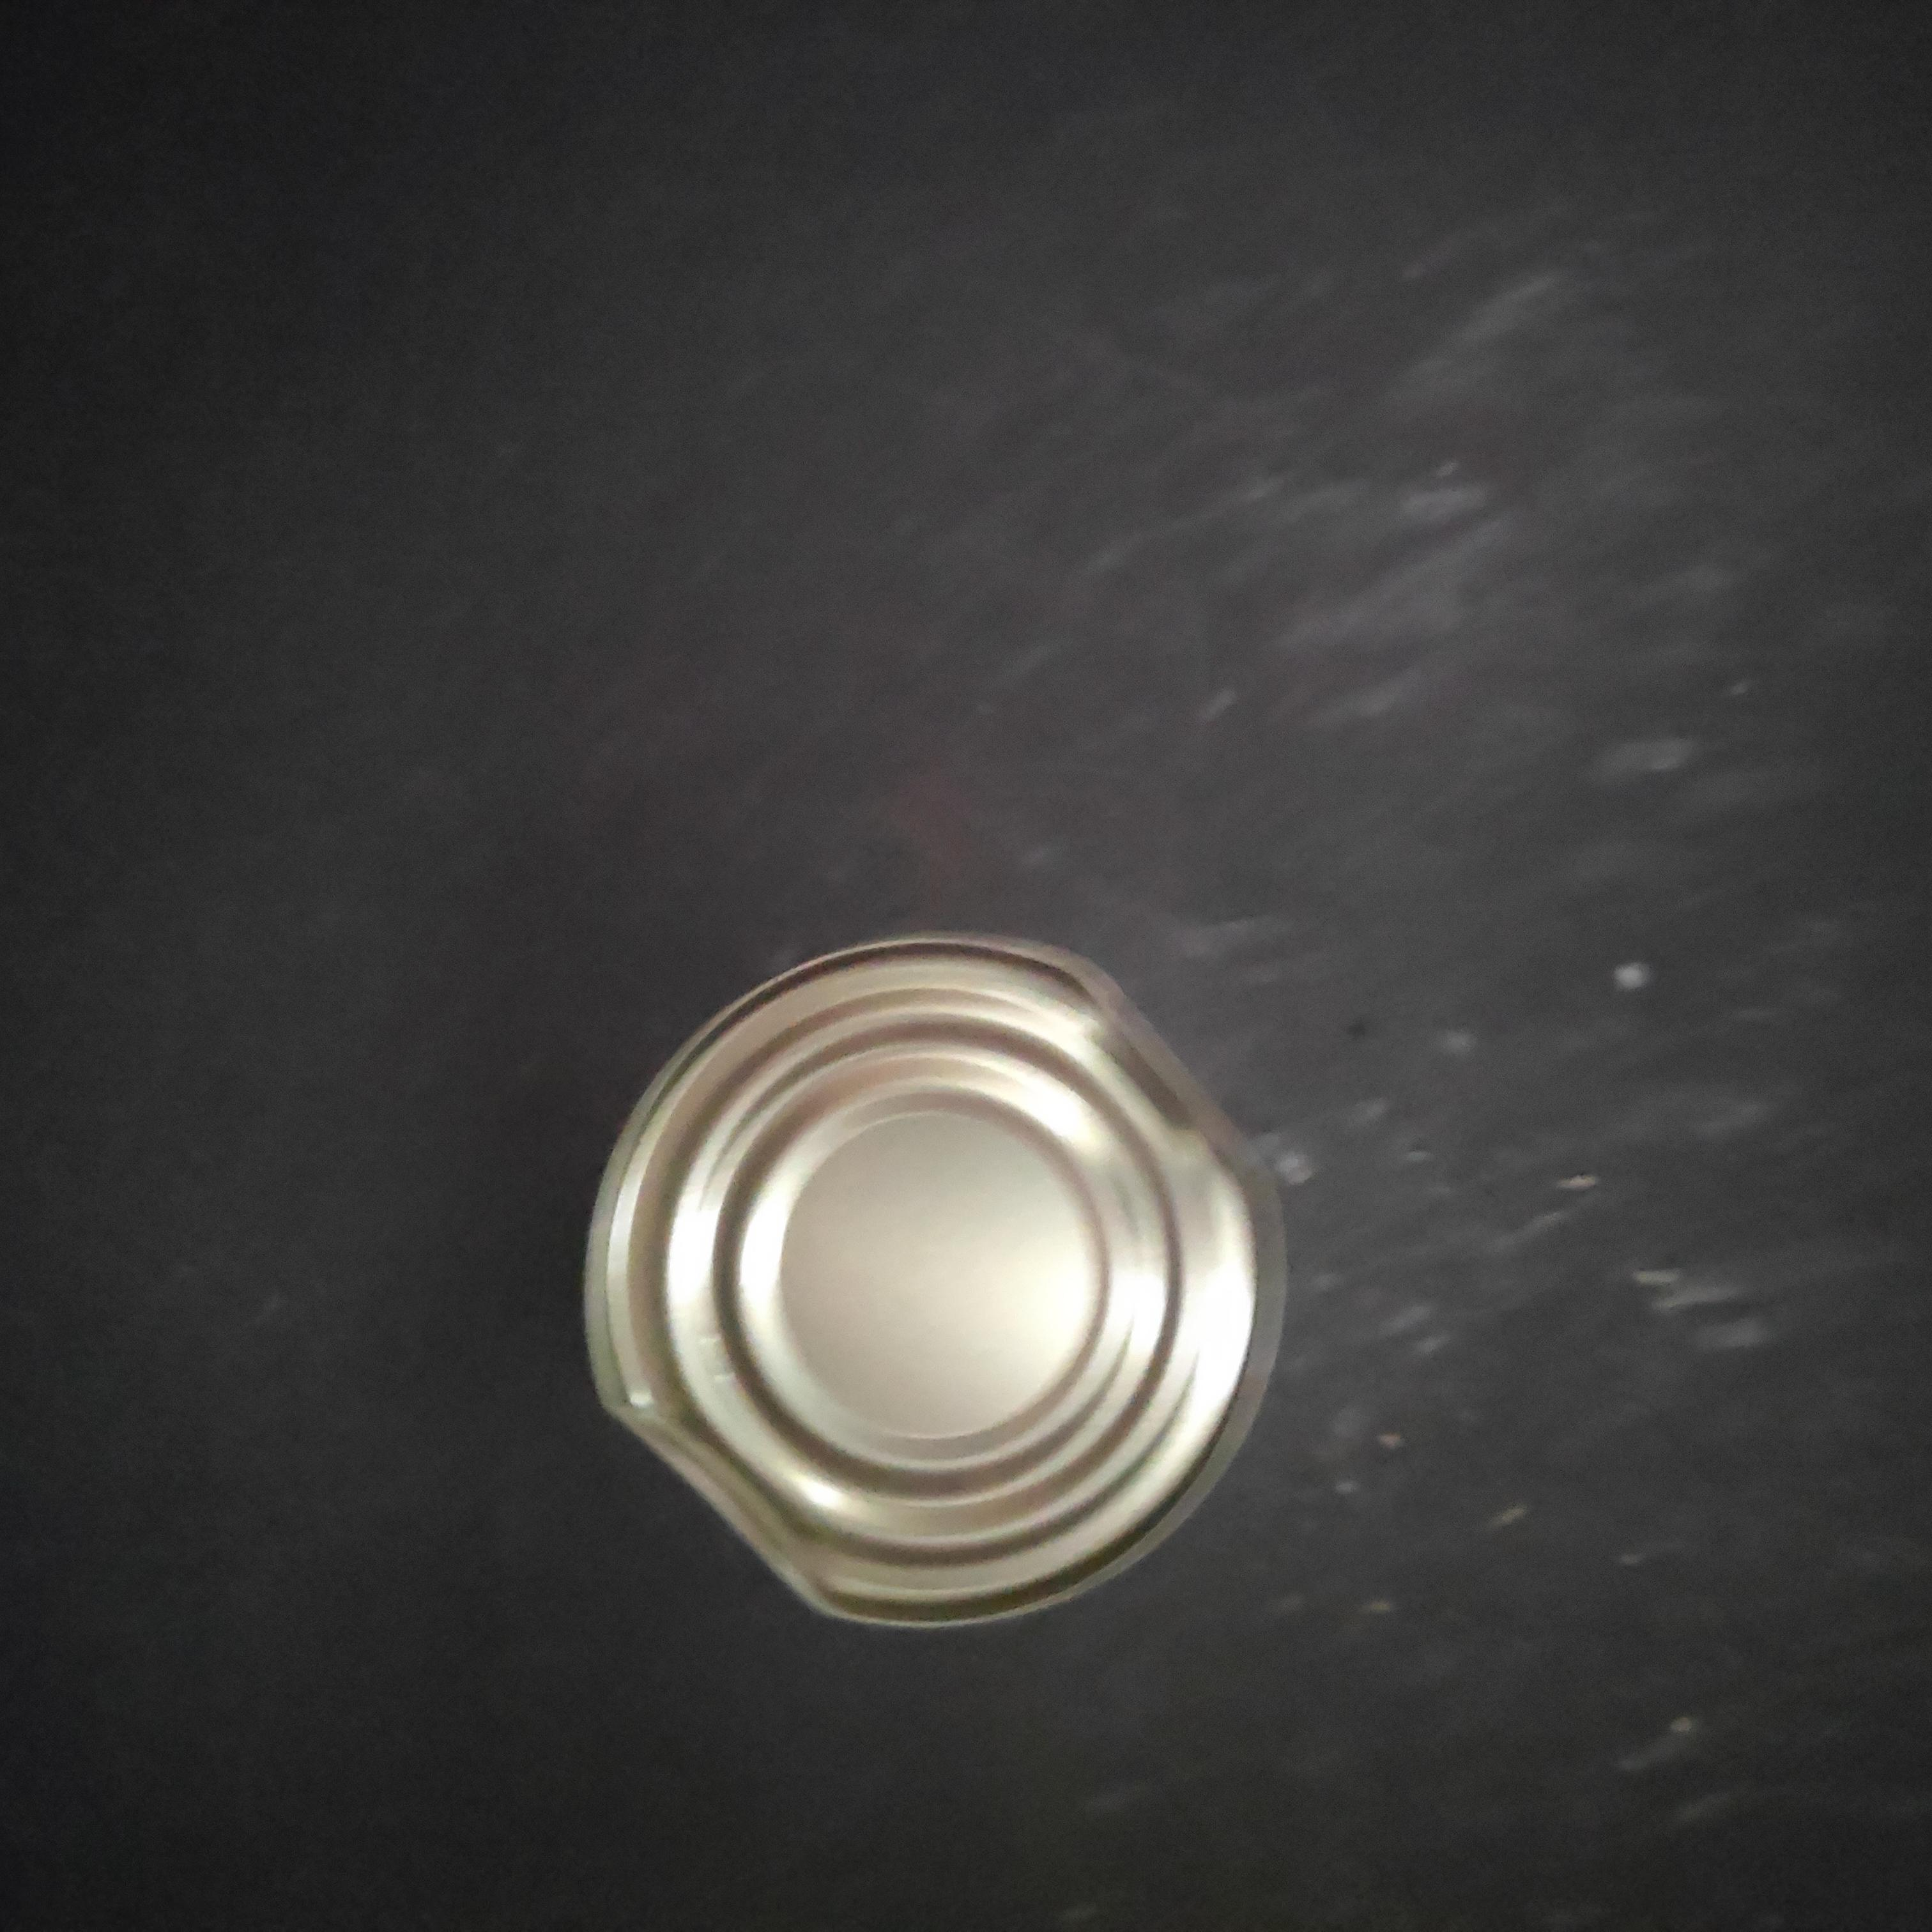Minor Defect: (633, 292, 1375, 1037)
